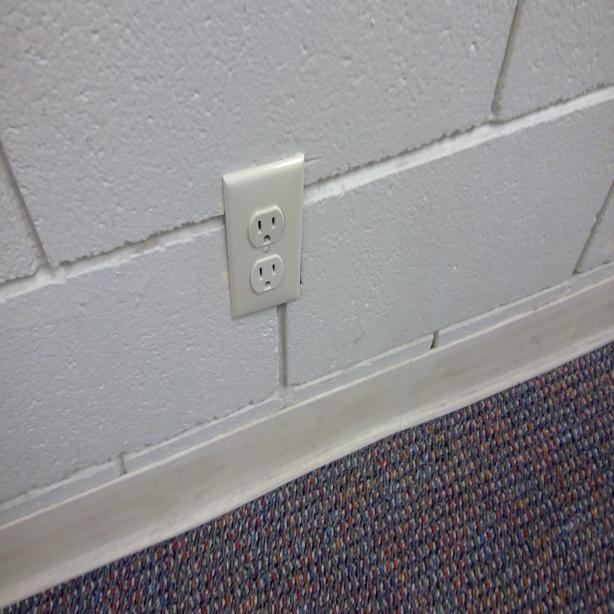typeb: (248, 203, 280, 250), (254, 256, 280, 294)
